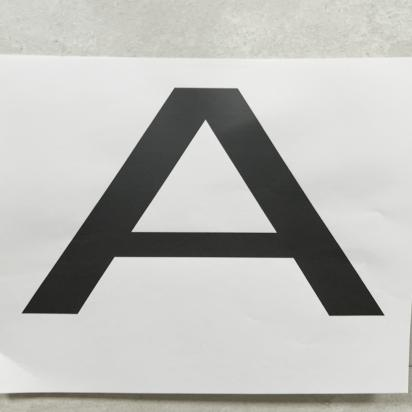seat: (4, 68, 386, 330)
